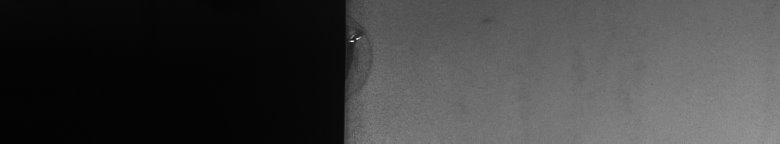hb: (356, 16, 373, 100)
